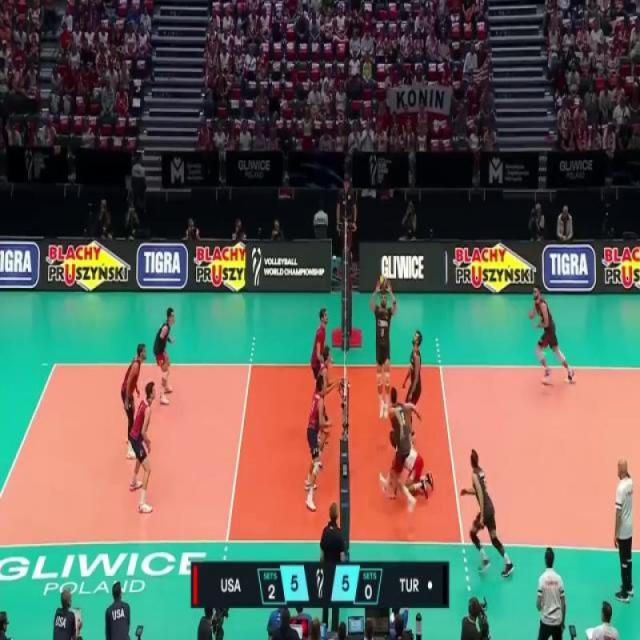volleyball: (378, 272, 389, 292)
